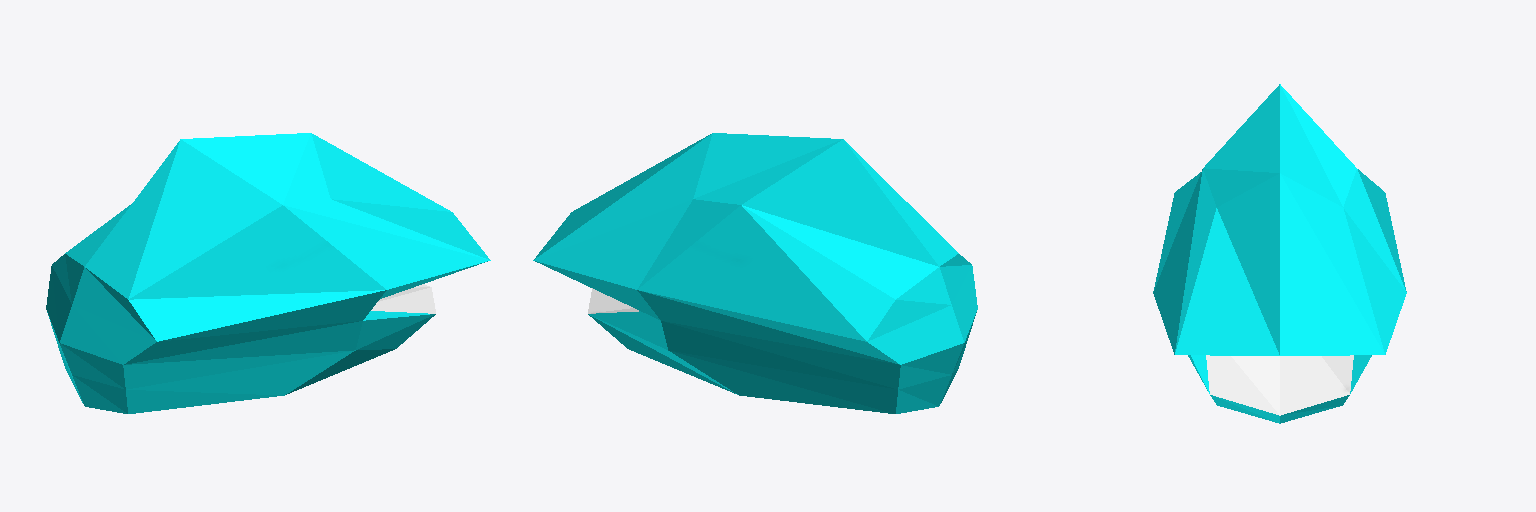
The picture shows the model from 3 angles: view 1: azimuth 30°, elevation 25°; view 2: azimuth 150°, elevation 25°; view 3: azimuth 270°, elevation 25°; orthographic projection.
Parts seen in each view (by area): view 1: Cube; view 2: Cube; view 3: Cube.
Part boxes in pixels (bbox=[...]): Cube: bbox=[46, 133, 490, 413]; Cube: bbox=[533, 133, 977, 413]; Cube: bbox=[1153, 84, 1406, 423].
Bounding box in the file's own units: 78.93 × 51.92 × 44.12.
1 materials, 1 textured.